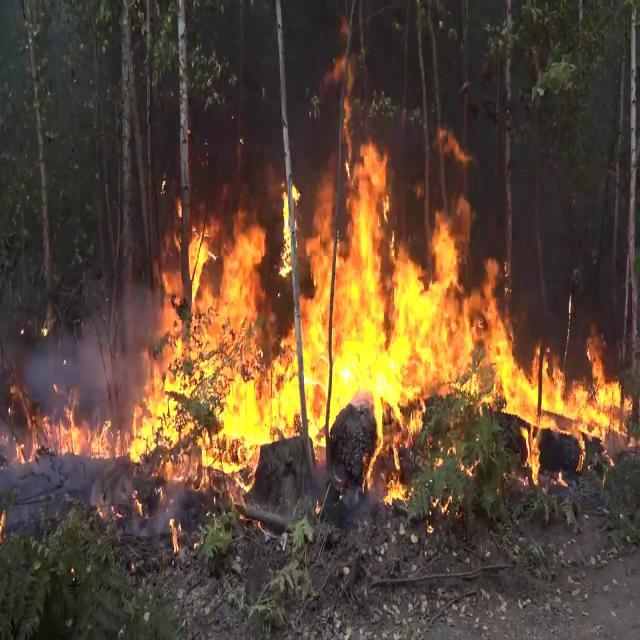Fire: (130, 90, 632, 500), (8, 394, 127, 466)
